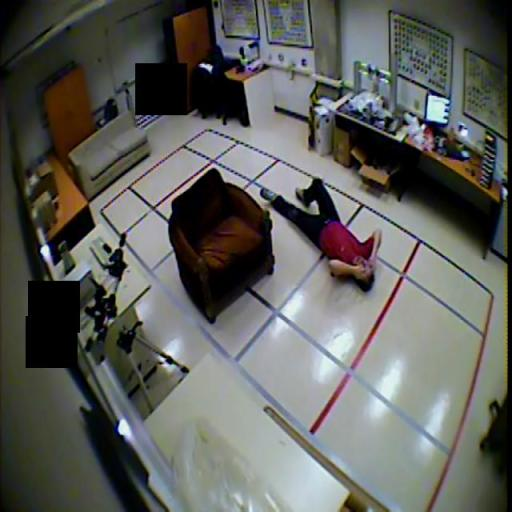Fall: (260, 177, 382, 294)
